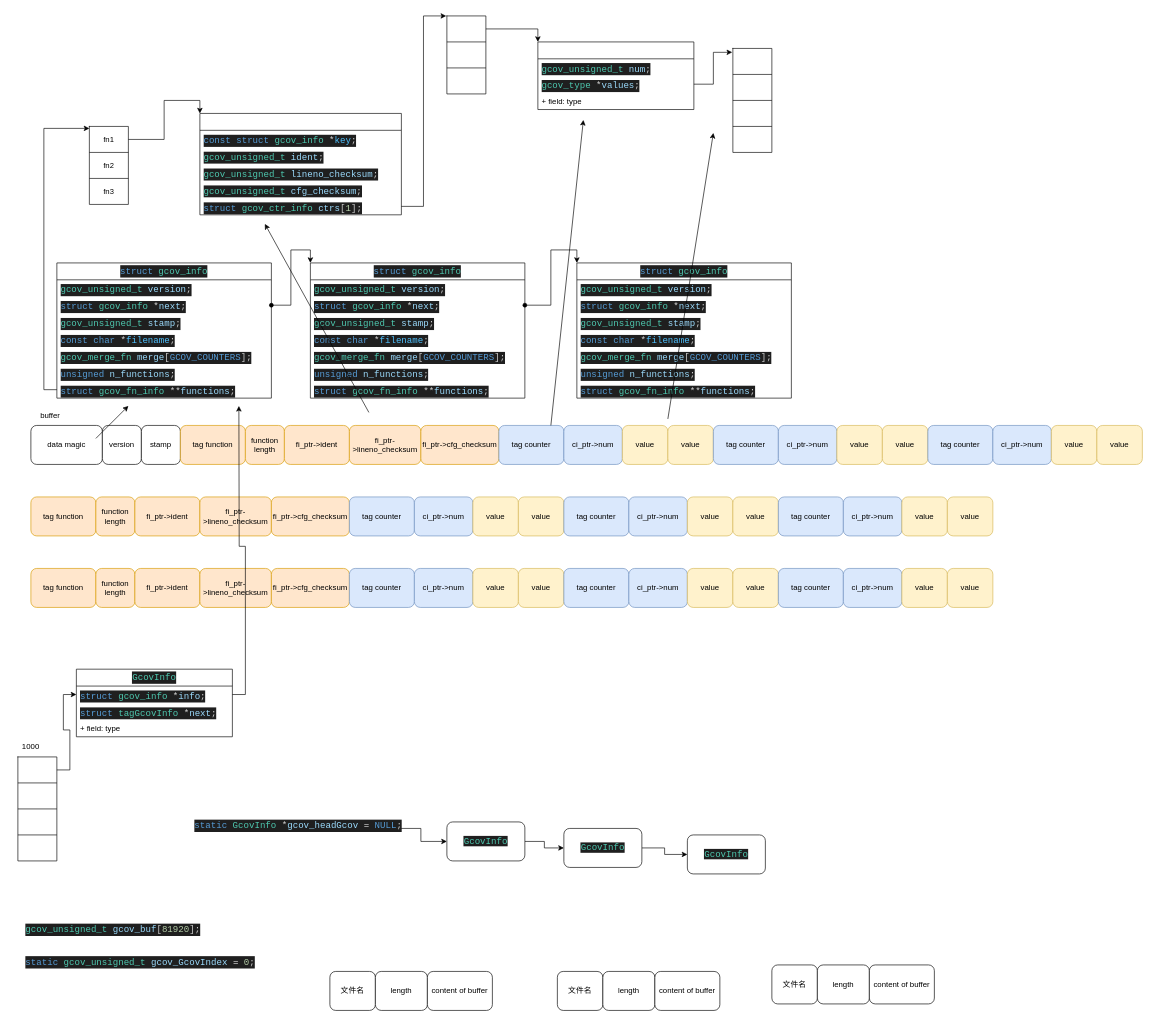
The diagram is 1154 pixels wide and 1022 high, and some of its shapes have lost their labels. Here are the shapes that lost their labels. From the top down, the box of each, then its label:
(537, 41, 694, 110): struct gcov_ctr_info
(199, 113, 401, 215): struct gcov_fn_info
